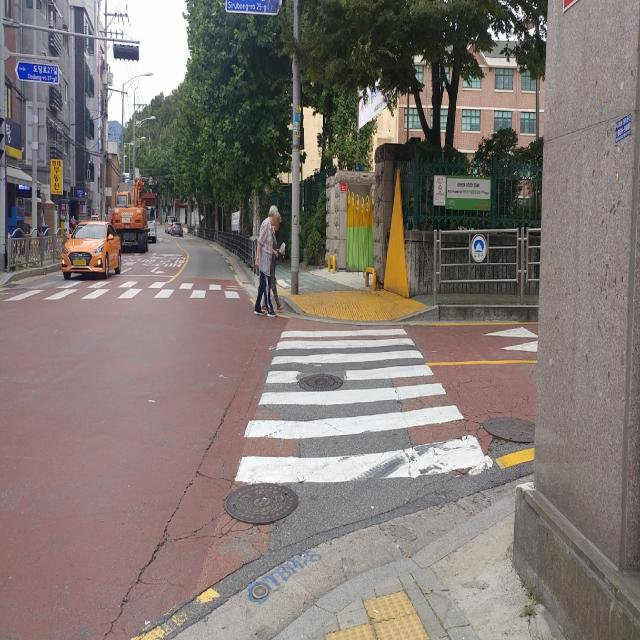횡단보도: (258, 329, 424, 487), (2, 257, 256, 310)
